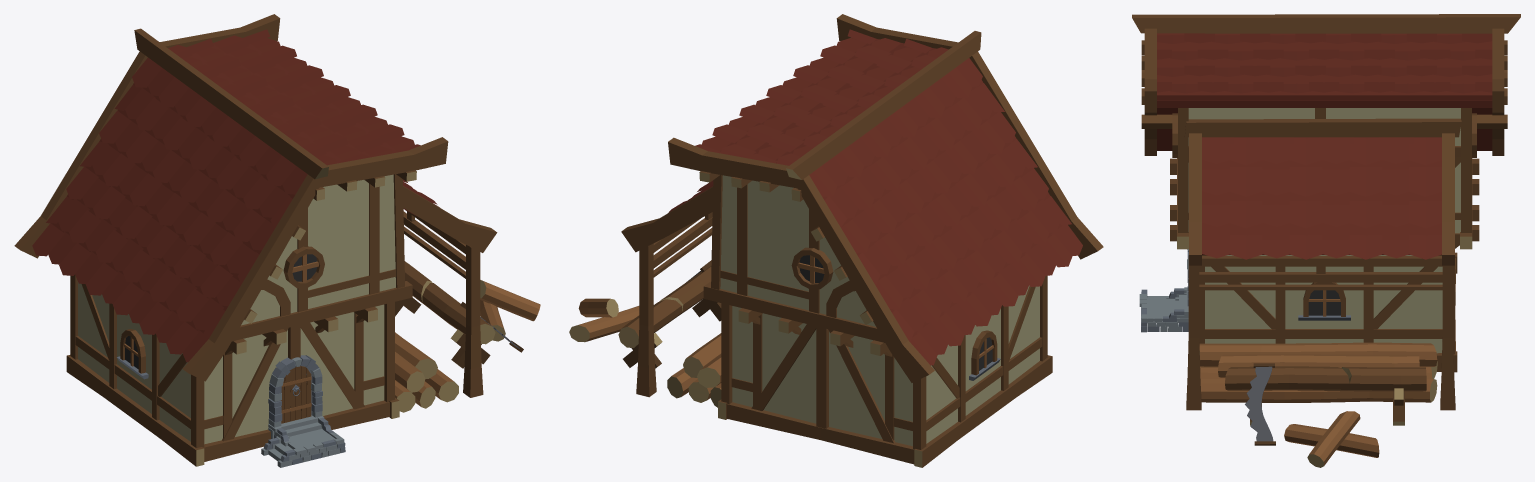
Rendered from Fantasy_Sawmill.glb.
The picture shows the model from 3 angles, left to right: view 1: azimuth 30°, elevation 25°; view 2: azimuth 150°, elevation 25°; view 3: azimuth 270°, elevation 25°; orthographic projection. The views are drawn at different scales.
Parts seen in each view (by area): view 1: Sawmill; view 2: Sawmill; view 3: Sawmill.
Part boxes in pixels (<box>): Sawmill: <box>14,14,540,467</box>; Sawmill: <box>569,14,1103,467</box>; Sawmill: <box>1132,14,1520,467</box>.
Bounding box in the file's own units: 4.4 × 2.86 × 3.28.
